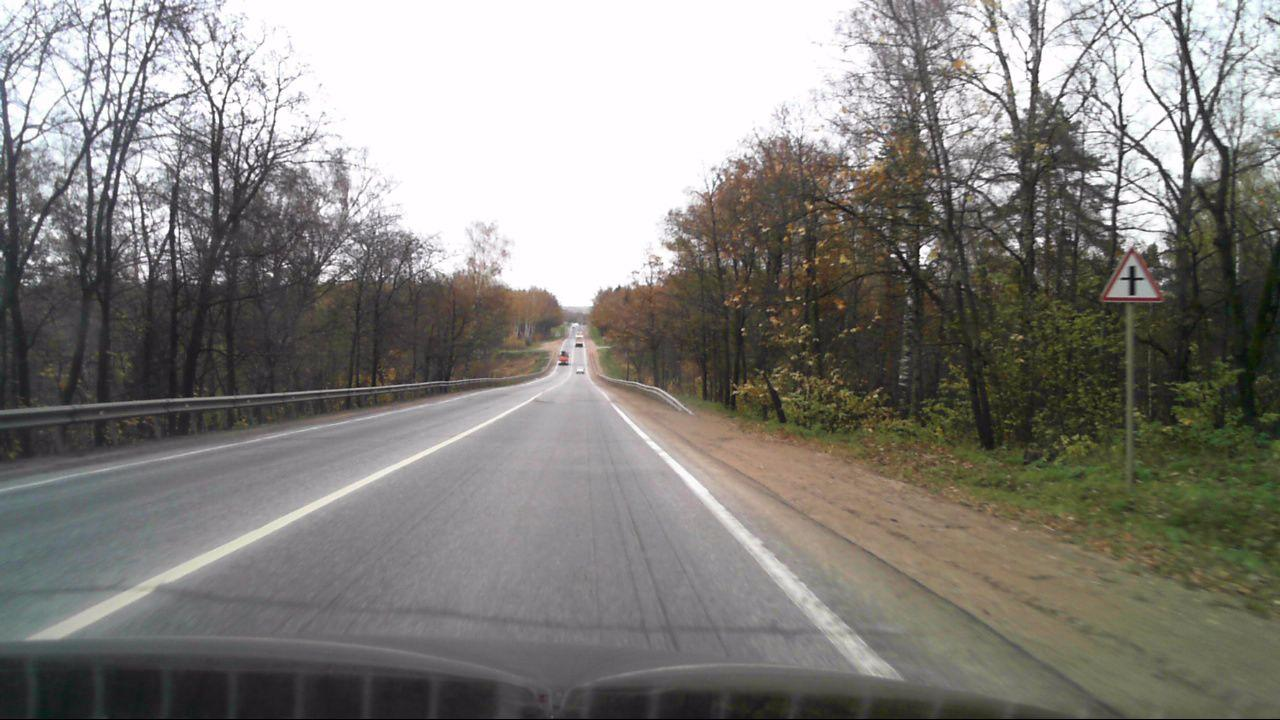2_3_1: (1101, 246, 1161, 304)
